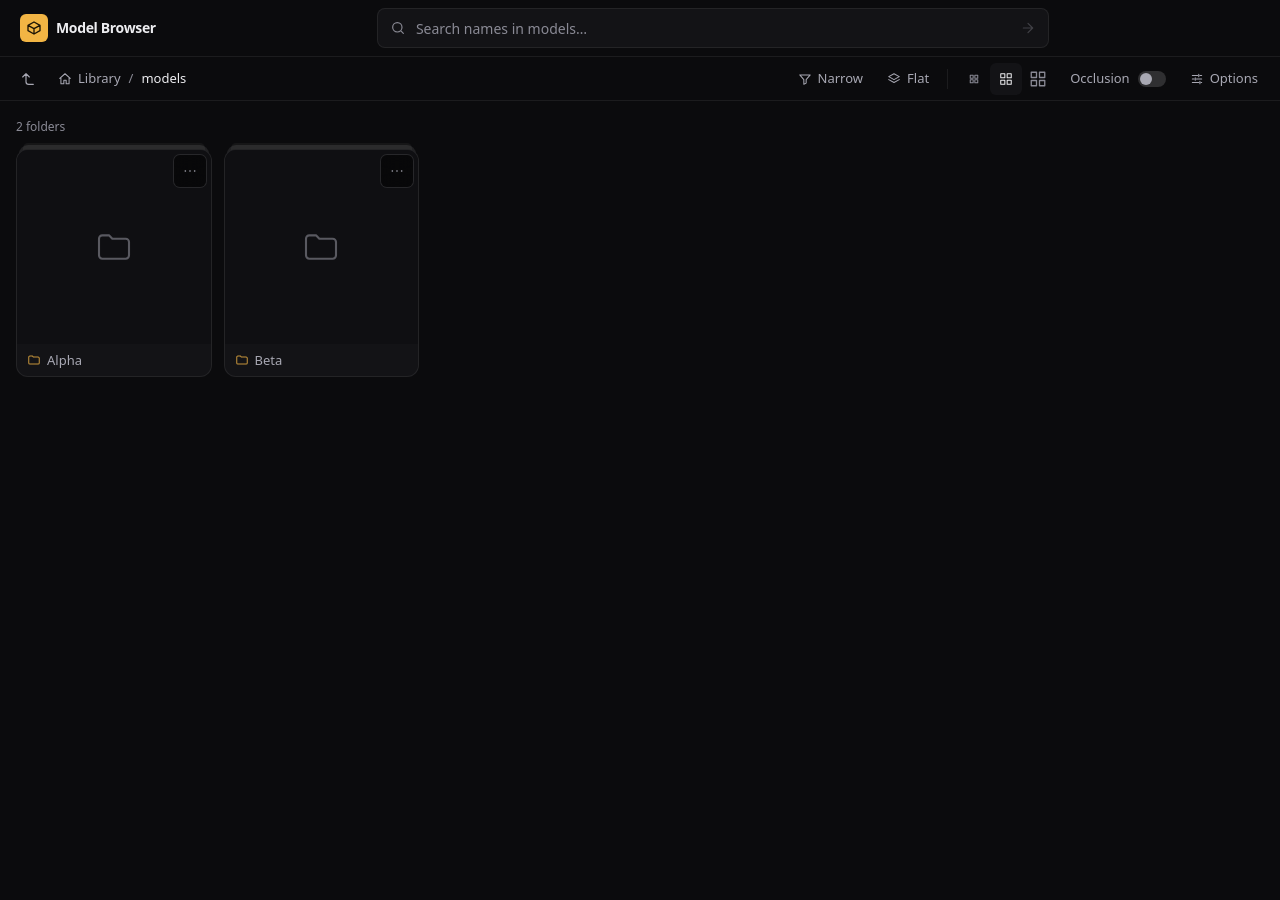
Test: the chip is the job, and outlives the folder that launched it › dismisses without cancelling — the job runs on, through entries not yet started
Press the mouse on the button "Alpha" at (114,263), box [16,149,212,377]
Right-click the button "Alpha" at (114,263), box [16,149,212,377]
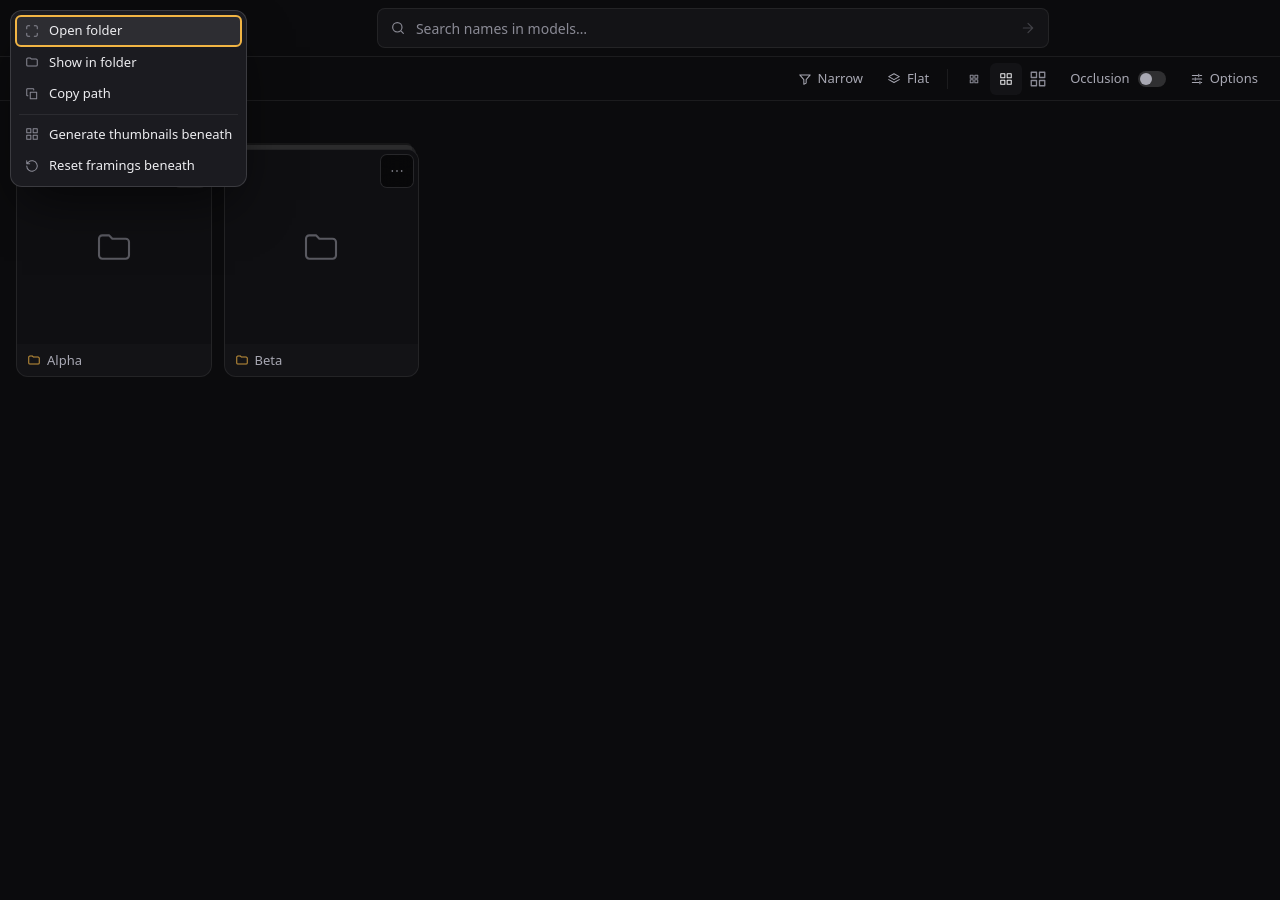
Click the menu item "Generate thumbnails beneath" at (129,134), box [15,118,242,150]
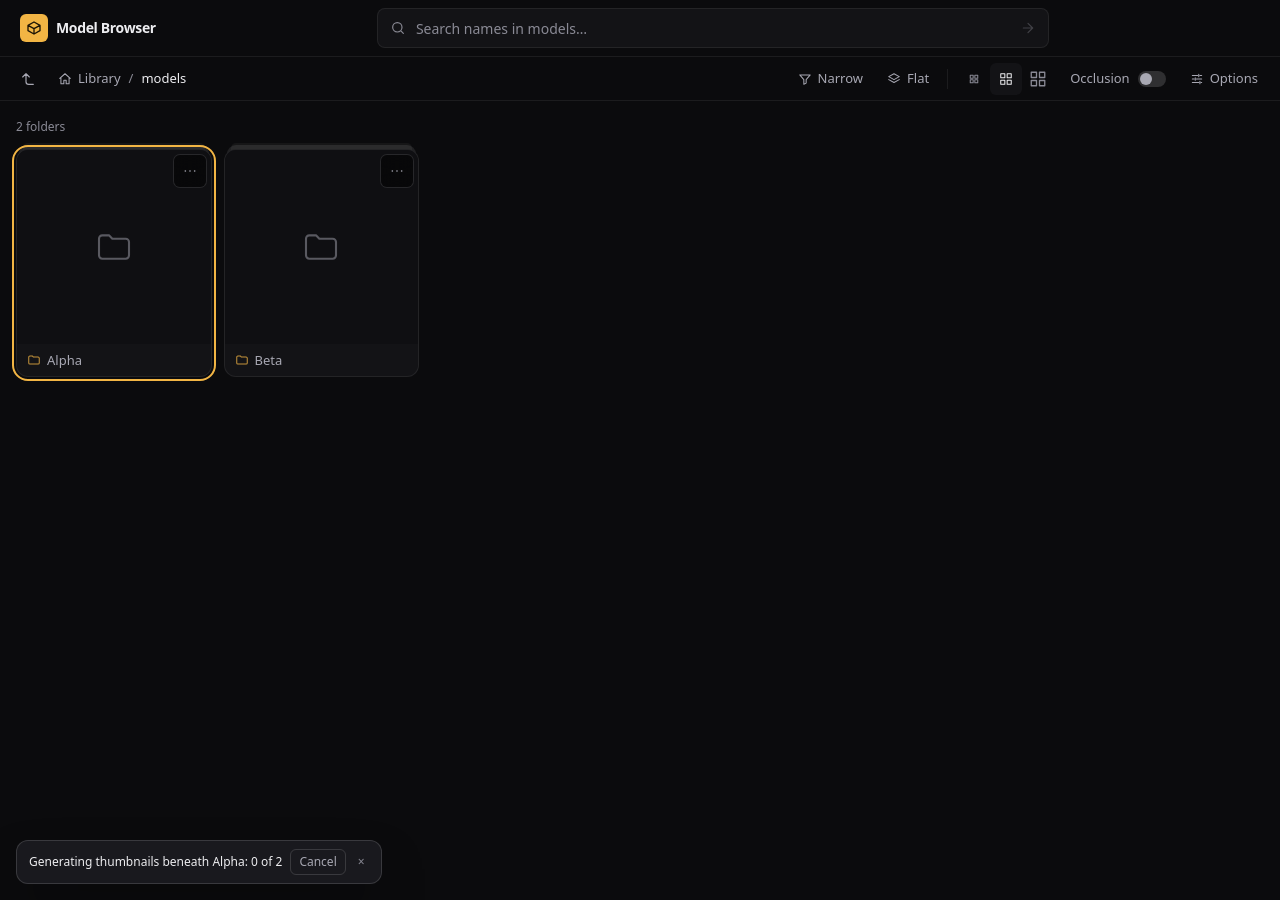
expect the message "Generating thumbnails beneath Alpha: 0 of 2 Cancel ×" is shown: met, box [16,840,382,884]
Click the button "×" at (361,862), box [354,854,369,870]
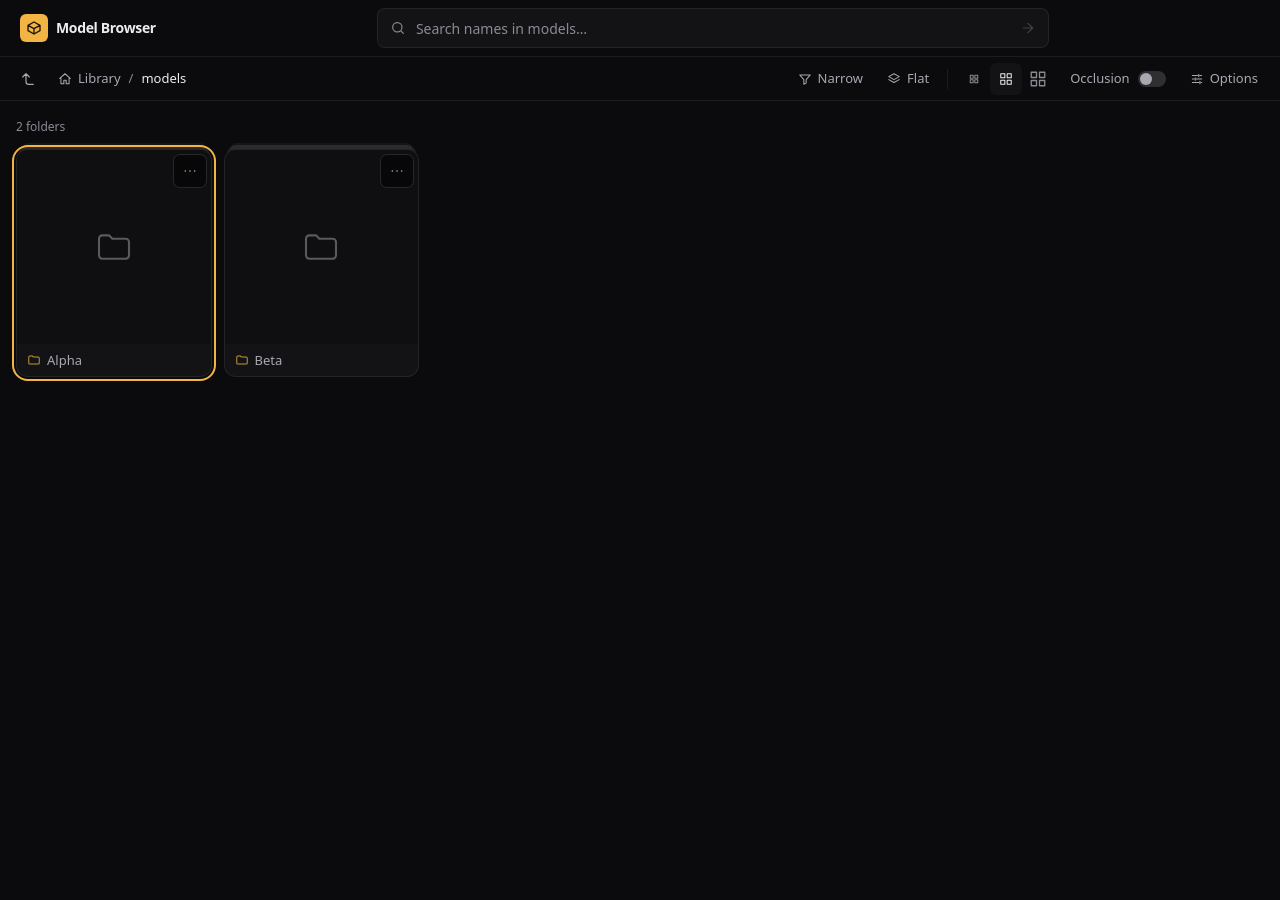
Press the mouse on the button "Alpha" at (114,263), box [16,149,212,377]
Right-click the button "Alpha" at (114,263), box [16,149,212,377]
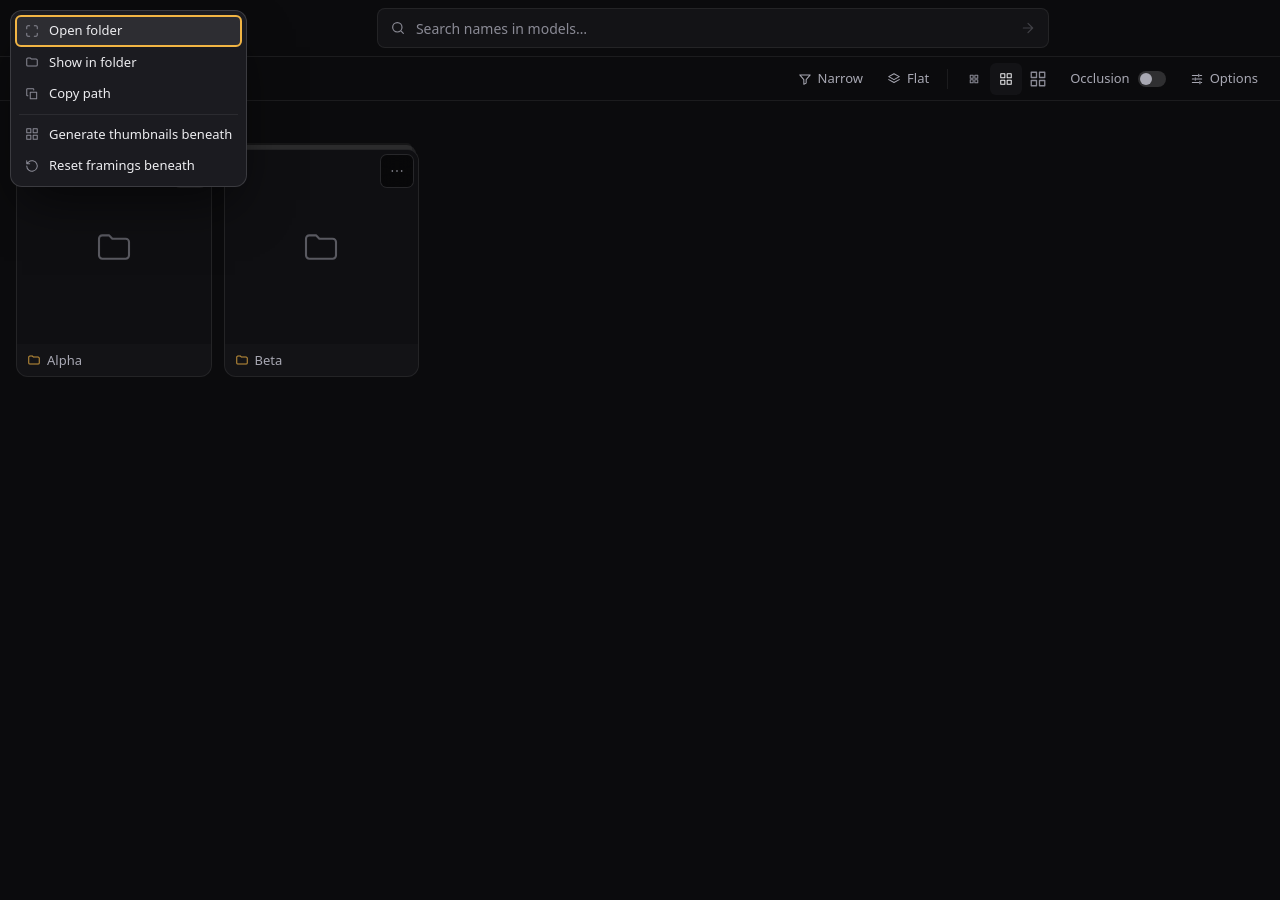
Click the menu item "Generate thumbnails beneath" at (129,134), box [15,118,242,150]
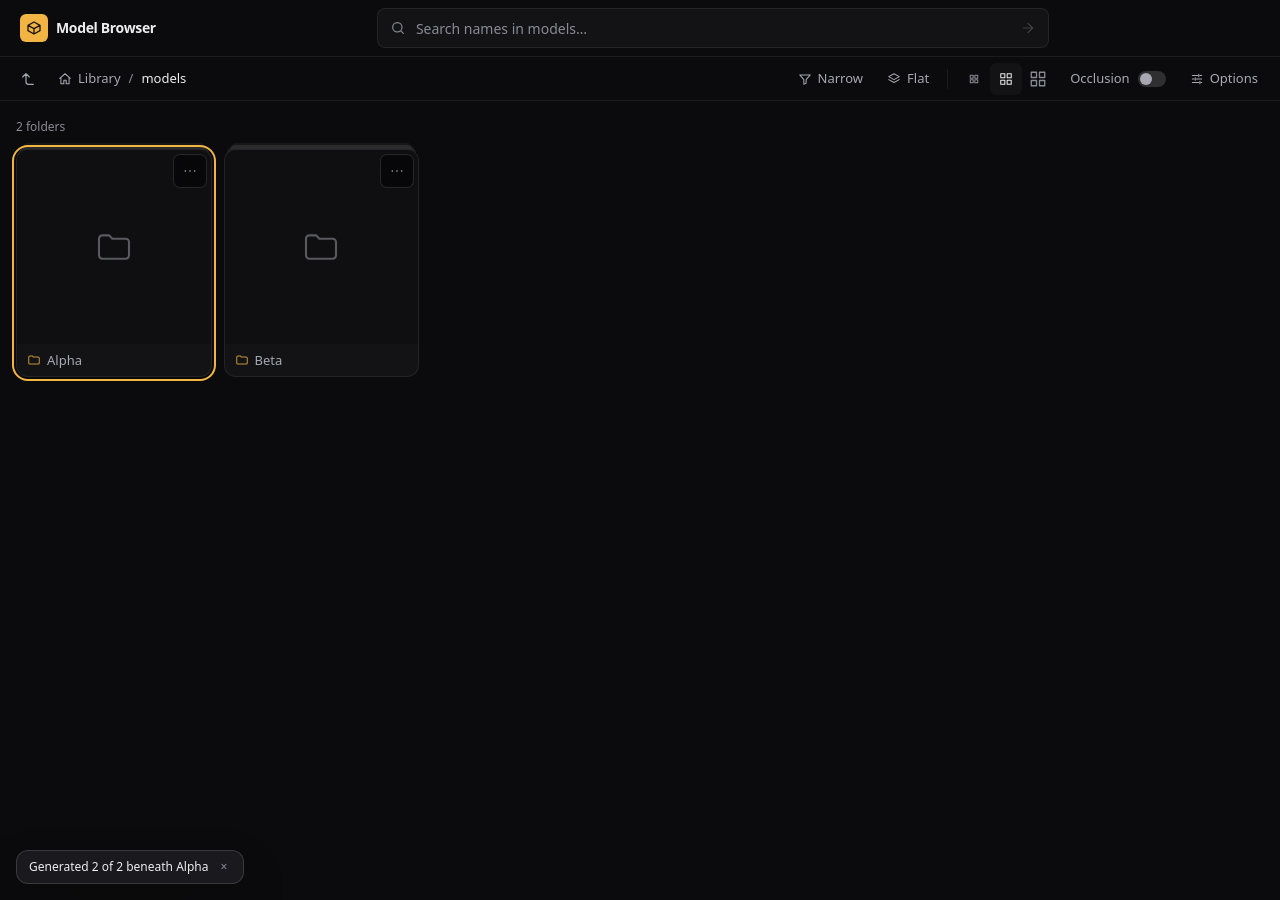
expect the text "Generated 2 of 2 beneath Alpha" is shown: met, box [29,859,208,875]
